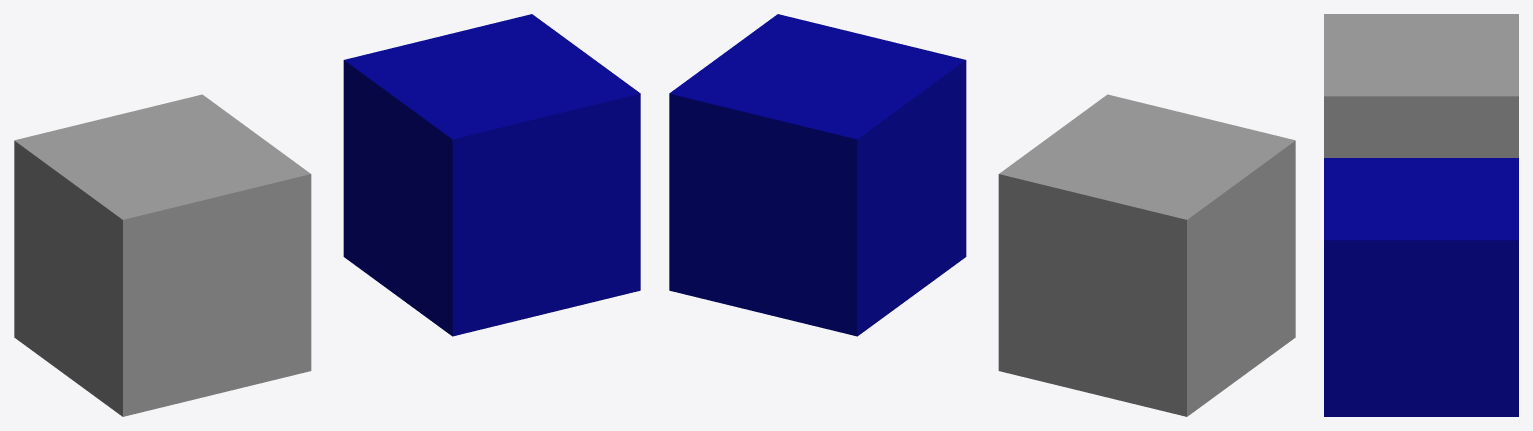
Rendered from twocubes.obj.
The picture shows the model from 3 angles, left to right: view 1: azimuth 30°, elevation 25°; view 2: azimuth 150°, elevation 25°; view 3: azimuth 270°, elevation 25°; orthographic projection. The views are drawn at different scales.
Visible parts, largest first — view 1: Cube.001, Cube; view 2: Cube.001, Cube; view 3: Cube, Cube.001.
Part boxes in pixels (x1,y1,x2,y2): Cube.001: (14, 94, 311, 416); Cube: (343, 14, 640, 336); Cube.001: (998, 94, 1295, 416); Cube: (669, 14, 966, 336); Cube: (1324, 158, 1518, 416); Cube.001: (1324, 14, 1518, 157).
Size of the model in its own units: 5.5 by 2 by 2.
